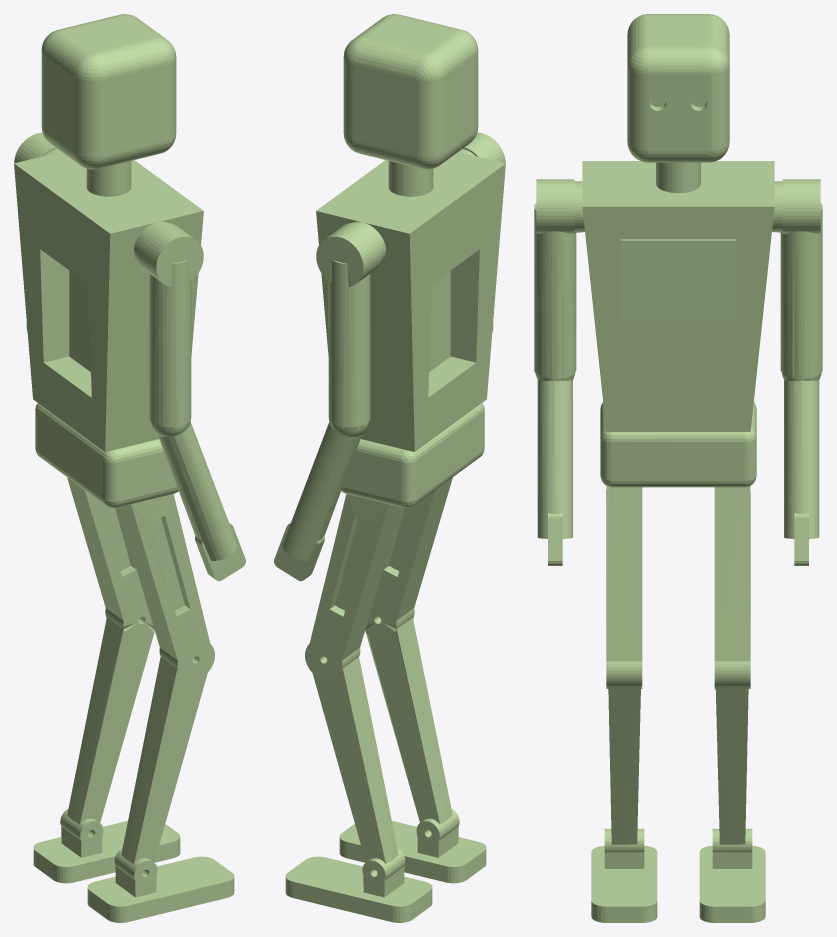
File: ghoul.glb
The picture shows the model from 3 angles, left to right: view 1: azimuth 30°, elevation 25°; view 2: azimuth 150°, elevation 25°; view 3: azimuth 270°, elevation 25°; orthographic projection.
Parts seen in each view (by area): view 1: body; view 2: body; view 3: body.
Boxes of the visible parts, left/top/right/bottom form: body: left=14, top=14, right=245, bottom=922; body: left=274, top=14, right=505, bottom=922; body: left=534, top=14, right=822, bottom=922.
Size of the model in its own units: 0.263 by 1.56 by 0.4799.
